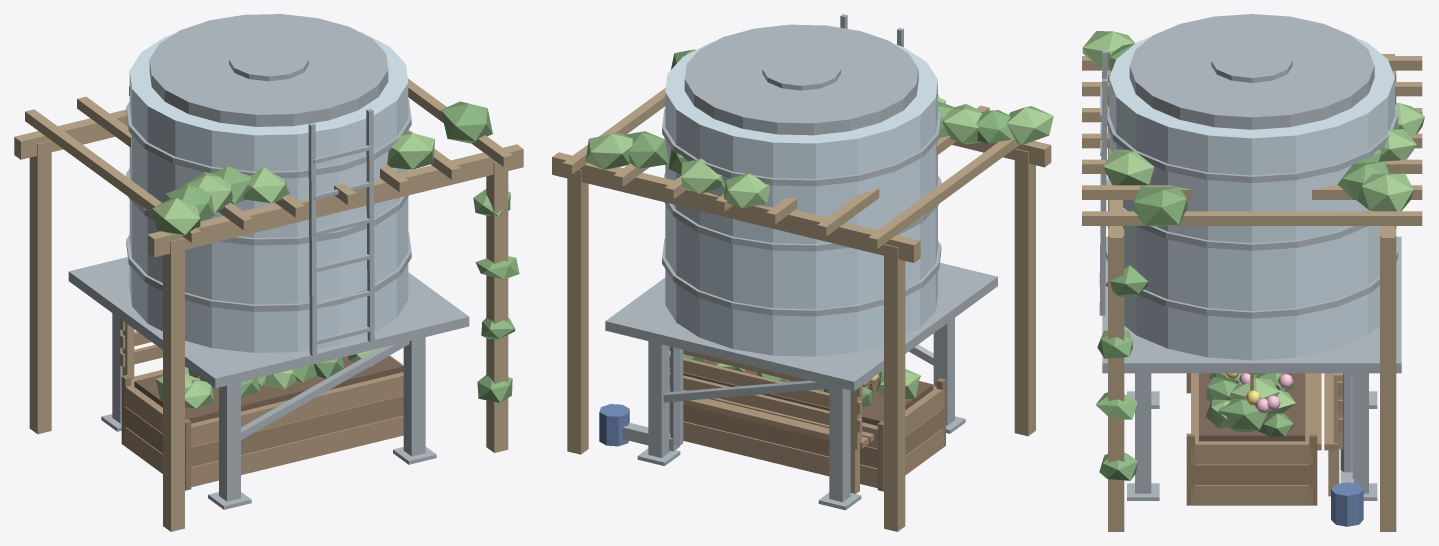
The model's file is roof_garden.glb.
3 views of the same model, side by side, from view 1: azimuth 30°, elevation 25°; view 2: azimuth 150°, elevation 25°; view 3: azimuth 270°, elevation 25° (orthographic). The views are drawn at different scales.
Parts seen in each view (by area): view 1: rg_tank_mesh, rg_pergola_mesh, rg_bed_veg_mesh, rg_bed_flower_mesh; view 2: rg_tank_mesh, rg_pergola_mesh, rg_bed_veg_mesh, rg_bed_flower_mesh; view 3: rg_tank_mesh, rg_pergola_mesh, rg_bed_veg_mesh, rg_bed_flower_mesh.
Part boxes in pixels (left/top/right/bottom): rg_tank_mesh: left=68, top=14, right=469, bottom=509; rg_pergola_mesh: left=14, top=78, right=523, bottom=531; rg_bed_veg_mesh: left=121, top=348, right=403, bottom=490; rg_bed_flower_mesh: left=156, top=356, right=347, bottom=402; rg_tank_mesh: left=599, top=14, right=997, bottom=510; rg_pergola_mesh: left=552, top=49, right=1053, bottom=531; rg_bed_veg_mesh: left=669, top=354, right=945, bottom=491; rg_bed_flower_mesh: left=823, top=370, right=919, bottom=399; rg_tank_mesh: left=1099, top=14, right=1401, bottom=526; rg_pergola_mesh: left=1082, top=31, right=1424, bottom=531; rg_bed_veg_mesh: left=1186, top=373, right=1317, bottom=505; rg_bed_flower_mesh: left=1213, top=373, right=1293, bottom=432.
Bounding box in the file's own units: 3.2 × 3.14 × 2.52.
